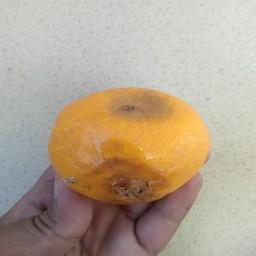Bad_orange: (45, 82, 211, 210)
